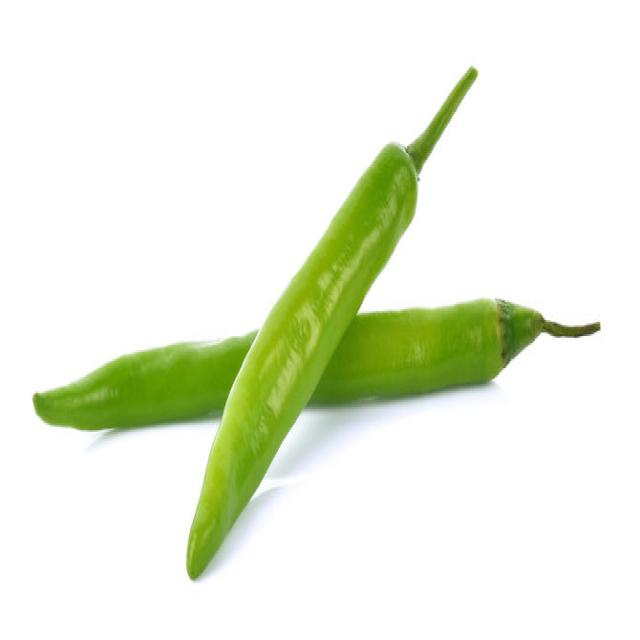Chilli: (184, 62, 478, 580), (32, 295, 601, 432)
